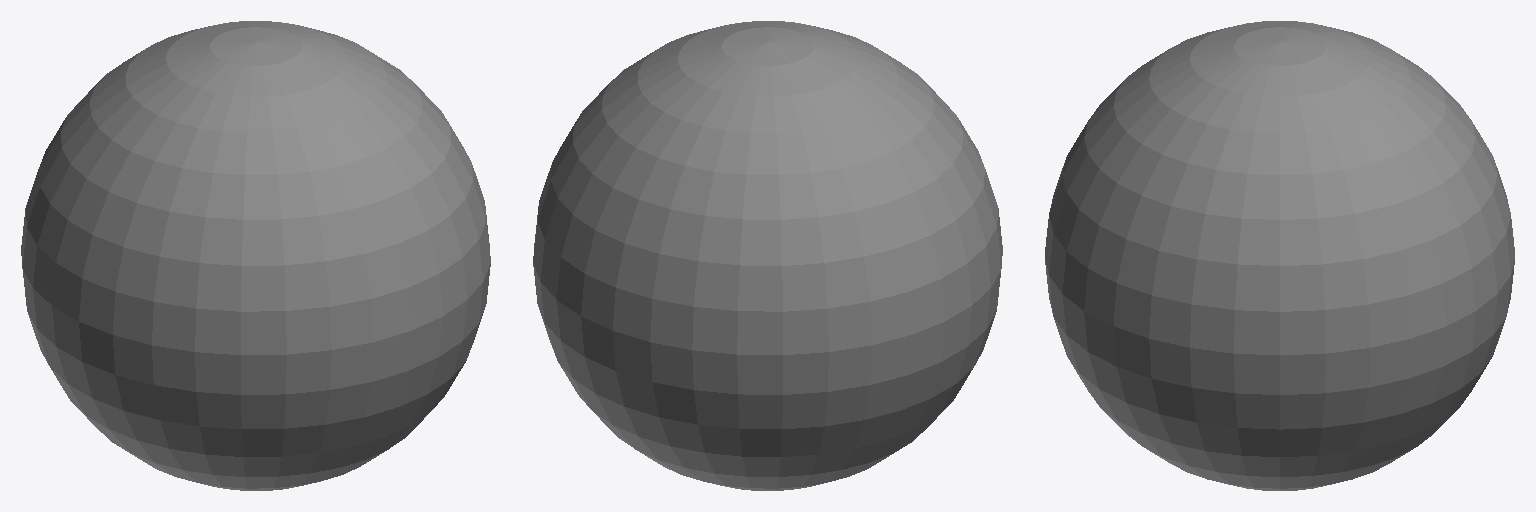
File: ball2.obj
3 views of the same model, side by side, from view 1: azimuth 30°, elevation 25°; view 2: azimuth 150°, elevation 25°; view 3: azimuth 270°, elevation 25° (orthographic).
Visible parts, largest first — view 1: Sphere001; view 2: Sphere001; view 3: Sphere001.
Part boxes in pixels (bbox=[...]): Sphere001: bbox=[21, 21, 490, 490]; Sphere001: bbox=[533, 21, 1002, 490]; Sphere001: bbox=[1045, 21, 1514, 490].
Bounding box in the file's own units: 72.74 × 72.74 × 72.74.